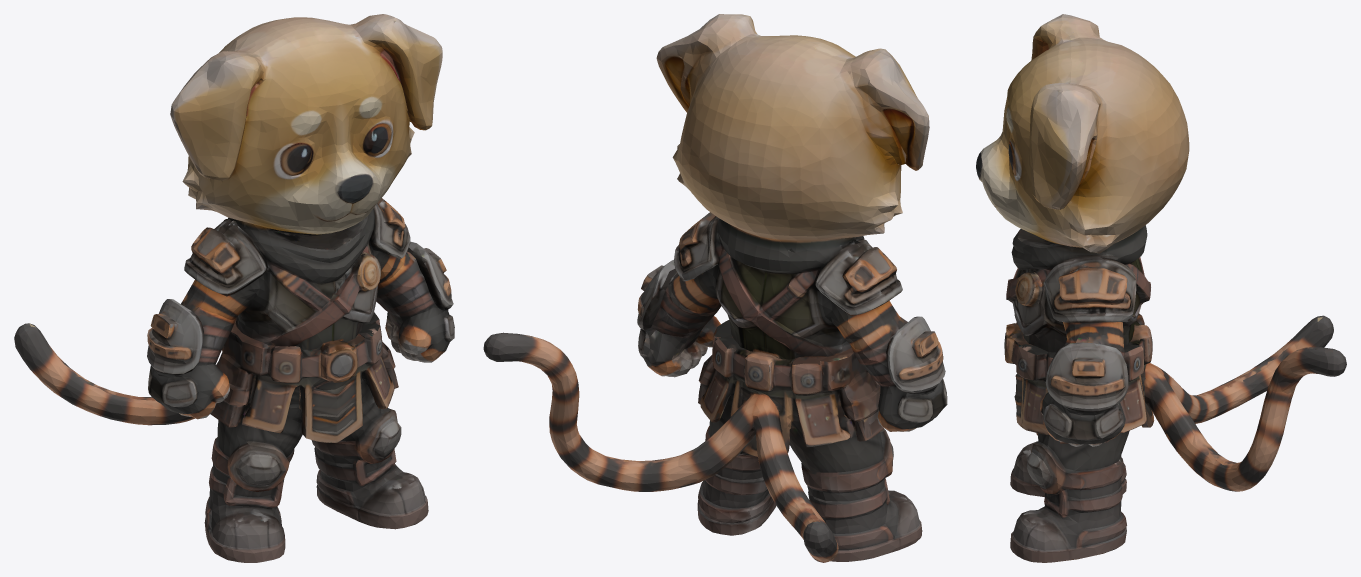
File: edit.glb
3 renders of one model, left to right at view 1: azimuth 30°, elevation 25°; view 2: azimuth 150°, elevation 25°; view 3: azimuth 270°, elevation 25°, orthographic. The views are drawn at different scales.
Parts seen in each view (by area): view 1: world; view 2: world; view 3: world.
Part boxes in pixels (x1,y1,x2,y2): world: (14,14,454,562); world: (483,14,947,562); world: (976,14,1346,562).
Bounding box in the file's own units: 0.7206 × 0.9982 × 0.7231.
Materials: 1 (1 with a texture image).
